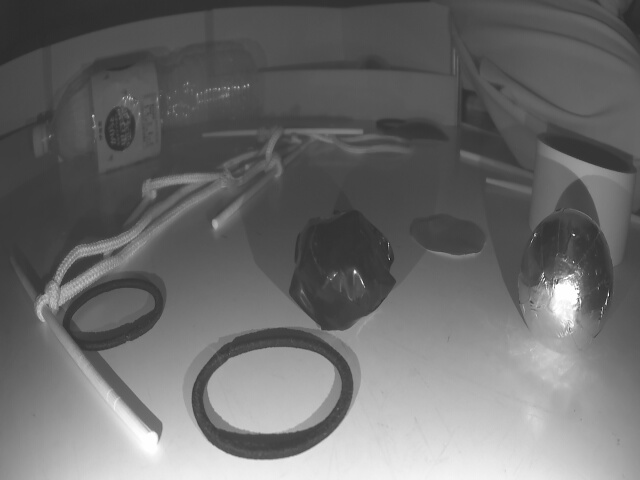Dead: (293, 215, 395, 329)
Live: (518, 203, 612, 353)
Point: (257, 59, 459, 130), (0, 118, 51, 199)
